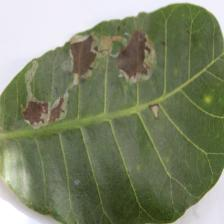leaf miner: (0, 2, 224, 224), (116, 28, 156, 84)
